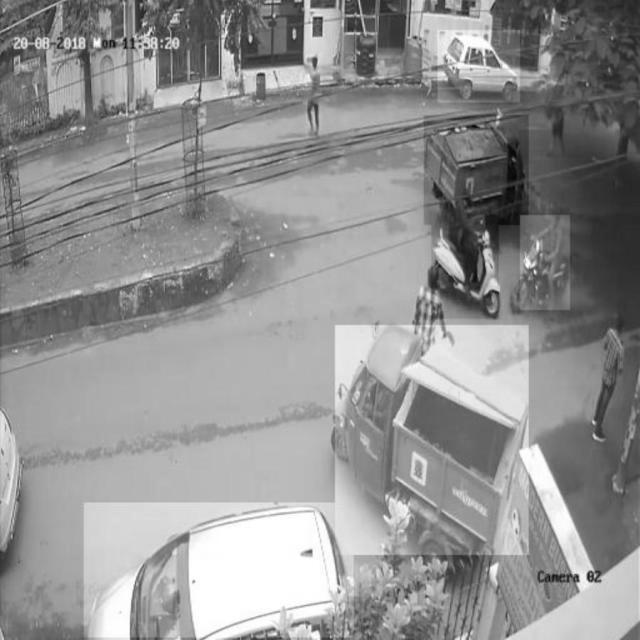person: (591, 308, 621, 450), (306, 54, 323, 138)
vehicle: (335, 325, 529, 556), (84, 503, 354, 637), (425, 115, 529, 226), (432, 201, 499, 319), (437, 30, 519, 102), (520, 215, 570, 311)
